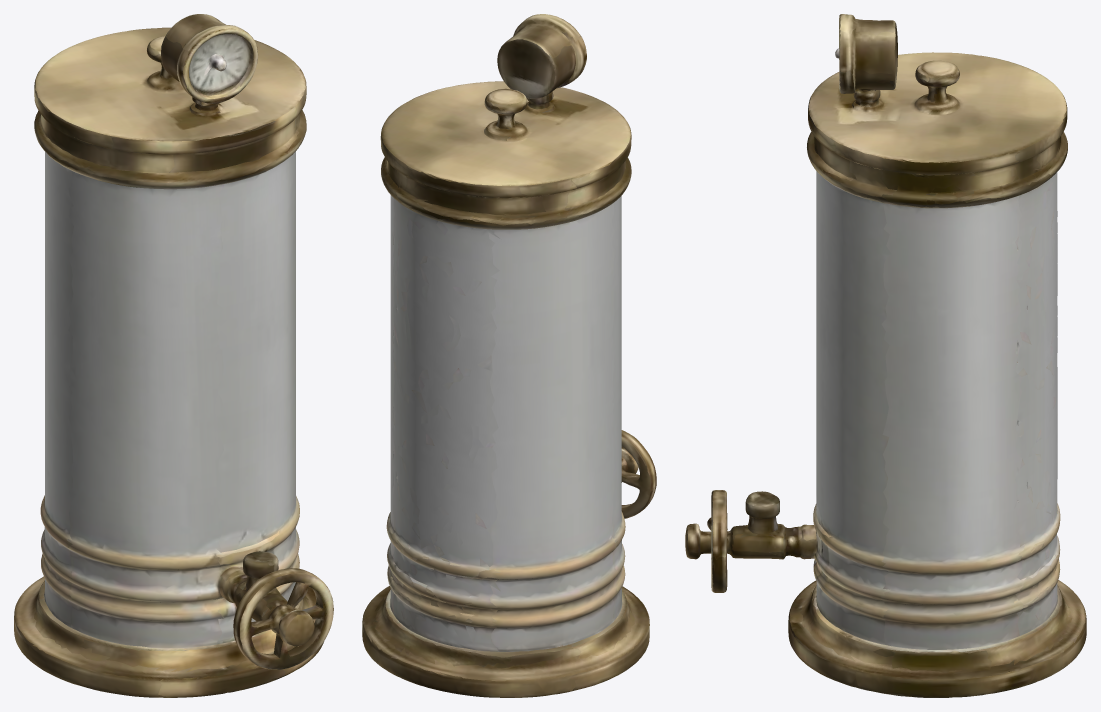
The model's file is b4ff8e85-87e1-4b9d-8ab2-bb536f6dfb54.glb.
3 renders of one model, left to right at view 1: azimuth 30°, elevation 25°; view 2: azimuth 150°, elevation 25°; view 3: azimuth 270°, elevation 25°, orthographic. The views are drawn at different scales.
Parts seen in each view (by area): view 1: geometry_0; view 2: geometry_0; view 3: geometry_0.
Boxes of the visible parts, left/top/right/bottom form: geometry_0: left=14, top=14, right=333, bottom=697; geometry_0: left=362, top=14, right=656, bottom=697; geometry_0: left=685, top=14, right=1086, bottom=697.
Size of the model in its own units: 0.1682 by 0.38 by 0.2244.
Materials: 1 (1 with a texture image).
